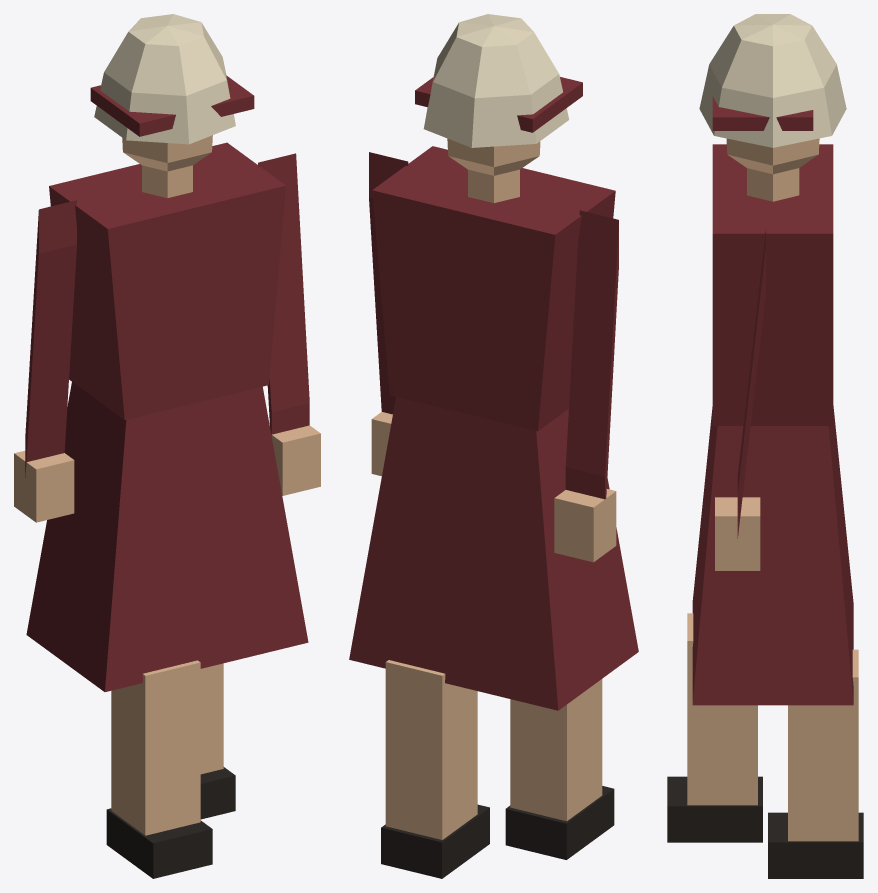
The model's file is life_person_c.glb.
3 renders of one model, left to right at view 1: azimuth 30°, elevation 25°; view 2: azimuth 150°, elevation 25°; view 3: azimuth 270°, elevation 25°, orthographic. The views are drawn at different scales.
Parts seen in each view (by area): view 1: life_person_c; view 2: life_person_c; view 3: life_person_c.
Part boxes in pixels (<box>): life_person_c: <box>14,14,320,878</box>; life_person_c: <box>349,14,638,878</box>; life_person_c: <box>667,14,863,878</box>.
Bounding box in the file's own units: 0.59 × 1.8 × 0.39.
